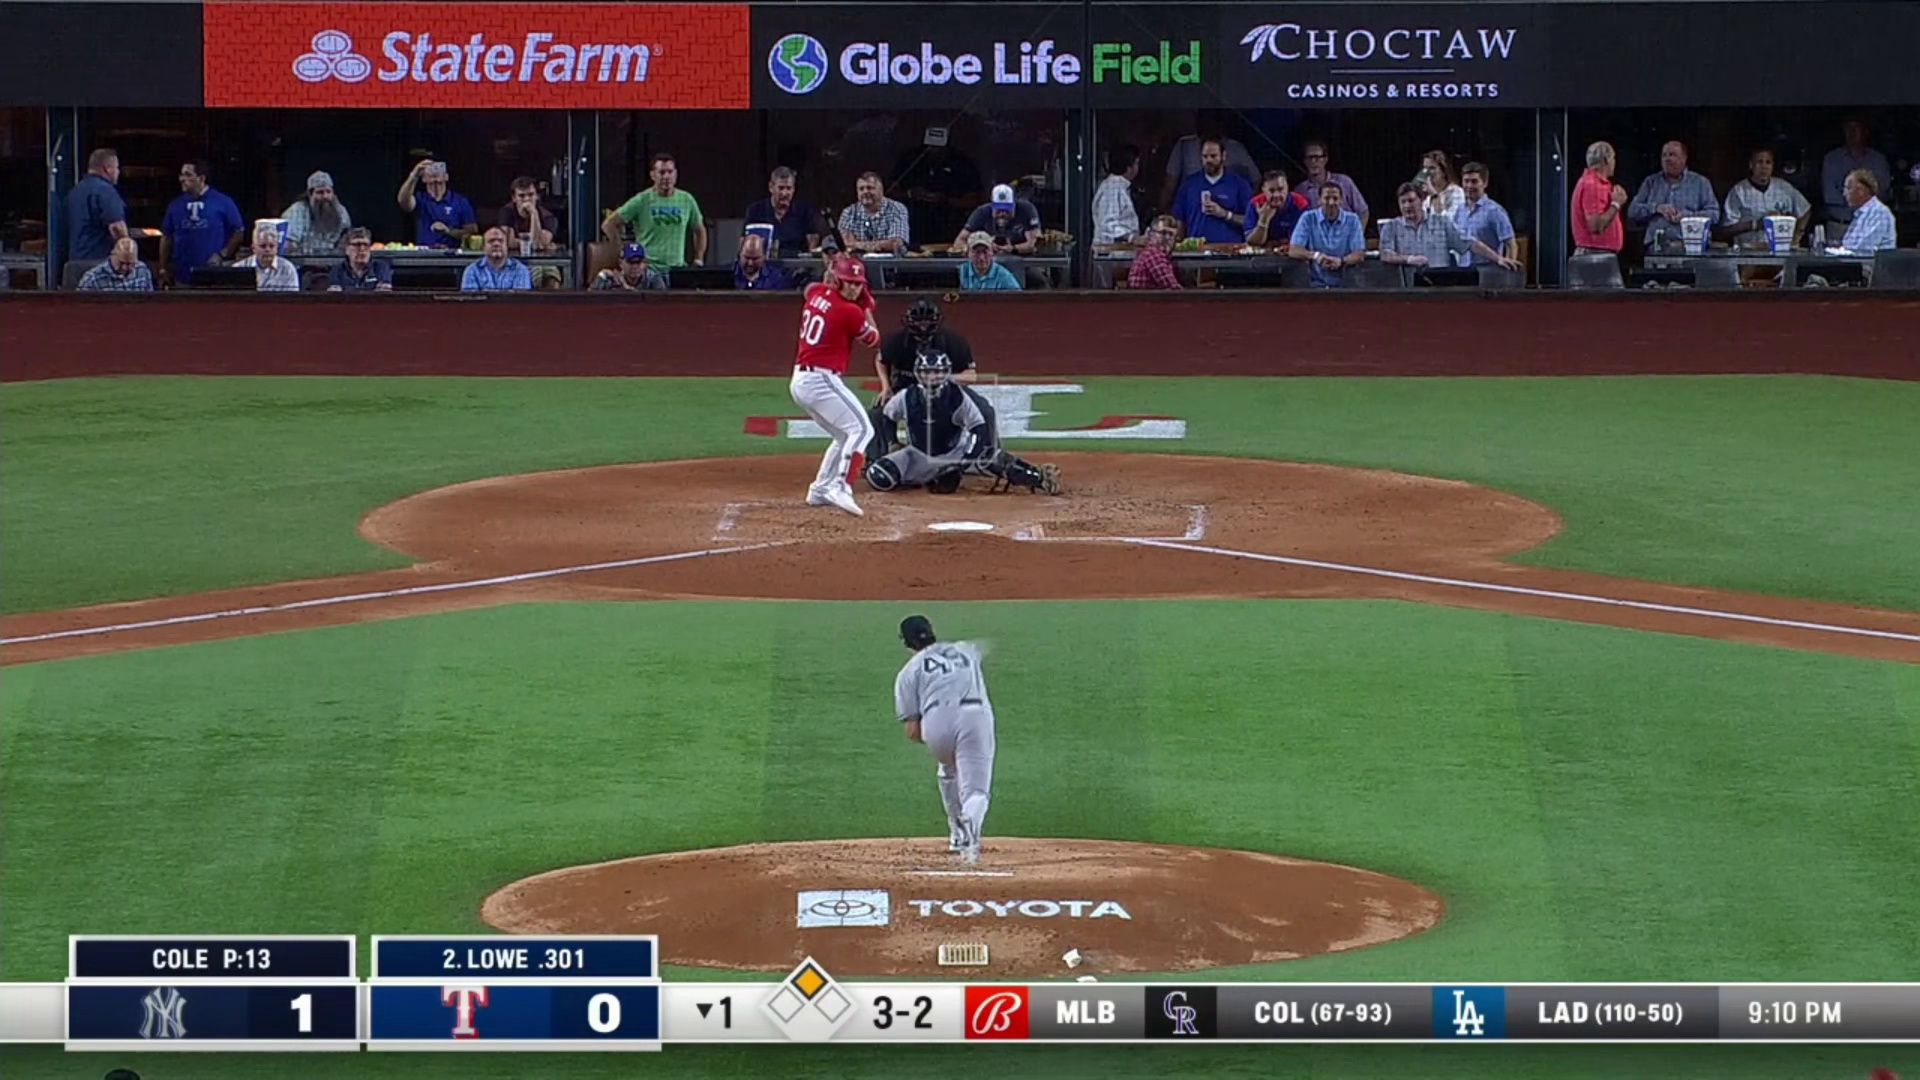baseball: (1030, 524, 1043, 542)
